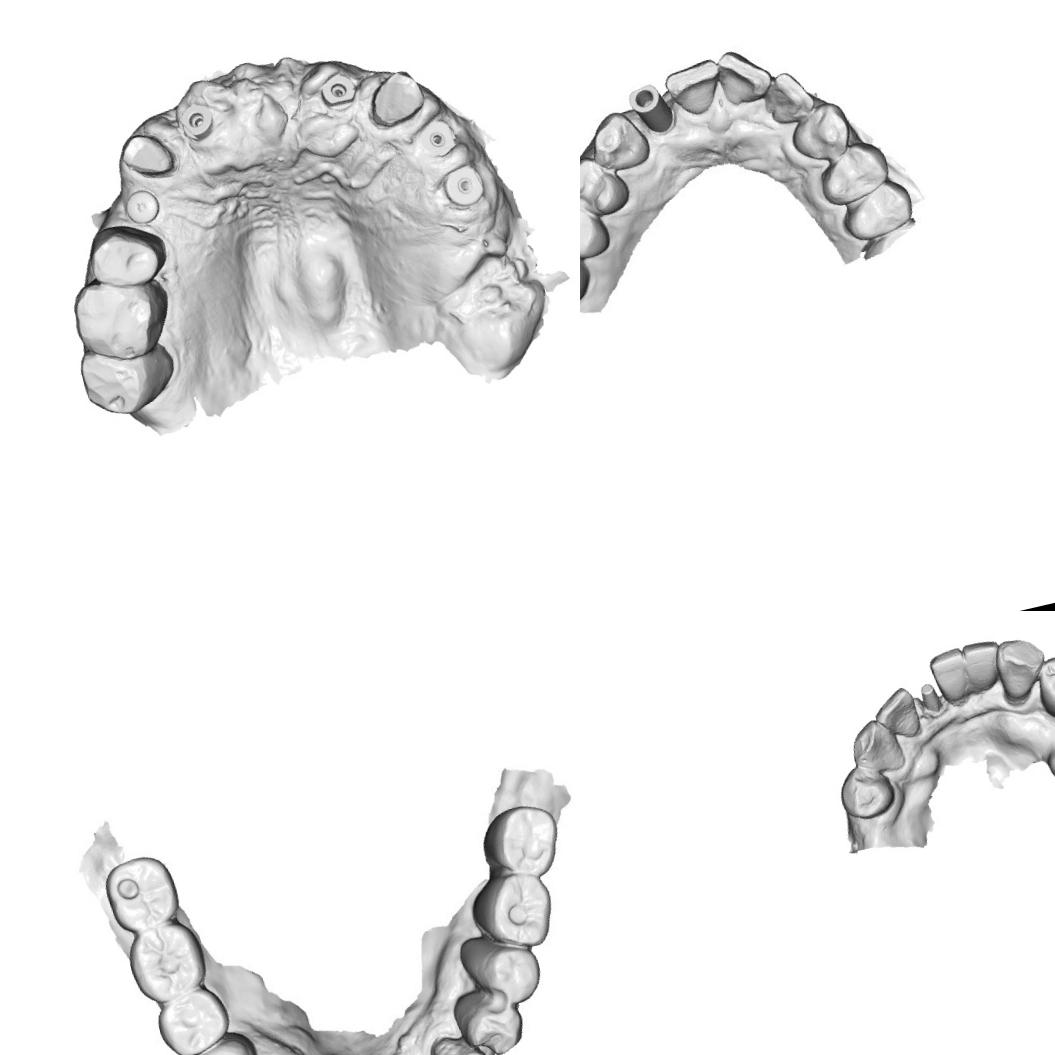abutment: (912, 678, 945, 718)
canine: (588, 109, 658, 176), (990, 632, 1054, 704), (844, 712, 908, 780), (791, 102, 853, 161), (422, 1021, 503, 1055)
crown: (360, 64, 432, 134), (115, 122, 179, 187)
implant: (624, 75, 682, 145), (440, 162, 488, 212), (418, 115, 462, 163), (117, 185, 164, 229), (176, 100, 220, 146), (316, 70, 361, 114)
incisor: (662, 59, 727, 119), (867, 682, 924, 746), (712, 44, 771, 103), (922, 642, 974, 706), (762, 70, 816, 128), (958, 632, 1003, 689)
molar: (65, 268, 180, 370), (72, 332, 182, 425), (466, 866, 560, 958), (471, 796, 568, 884), (121, 918, 210, 1006), (98, 848, 185, 938), (150, 984, 233, 1055), (580, 191, 608, 265)
premolar: (80, 213, 175, 303), (470, 934, 550, 1014), (448, 980, 529, 1055), (838, 182, 916, 242), (832, 760, 900, 824), (815, 144, 887, 202), (580, 155, 626, 223), (178, 1029, 269, 1055), (1030, 646, 1055, 722)
